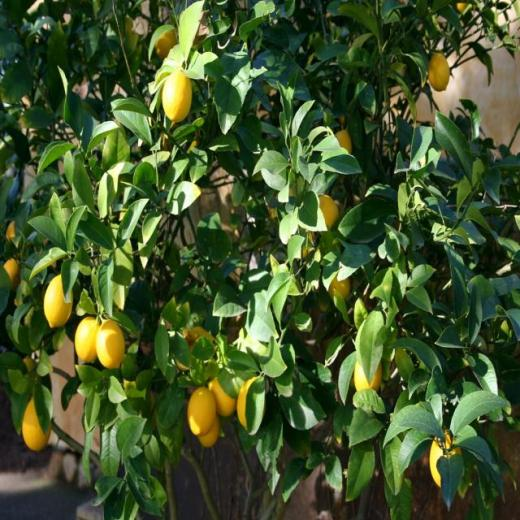Grape: (156, 60, 193, 117), (21, 390, 50, 454), (39, 274, 66, 331), (190, 382, 216, 438), (97, 319, 123, 374), (354, 358, 382, 398), (210, 371, 233, 419), (72, 318, 97, 358), (317, 198, 341, 236), (429, 47, 453, 85), (329, 272, 352, 302), (199, 408, 215, 451), (334, 126, 353, 159), (239, 384, 253, 426)
